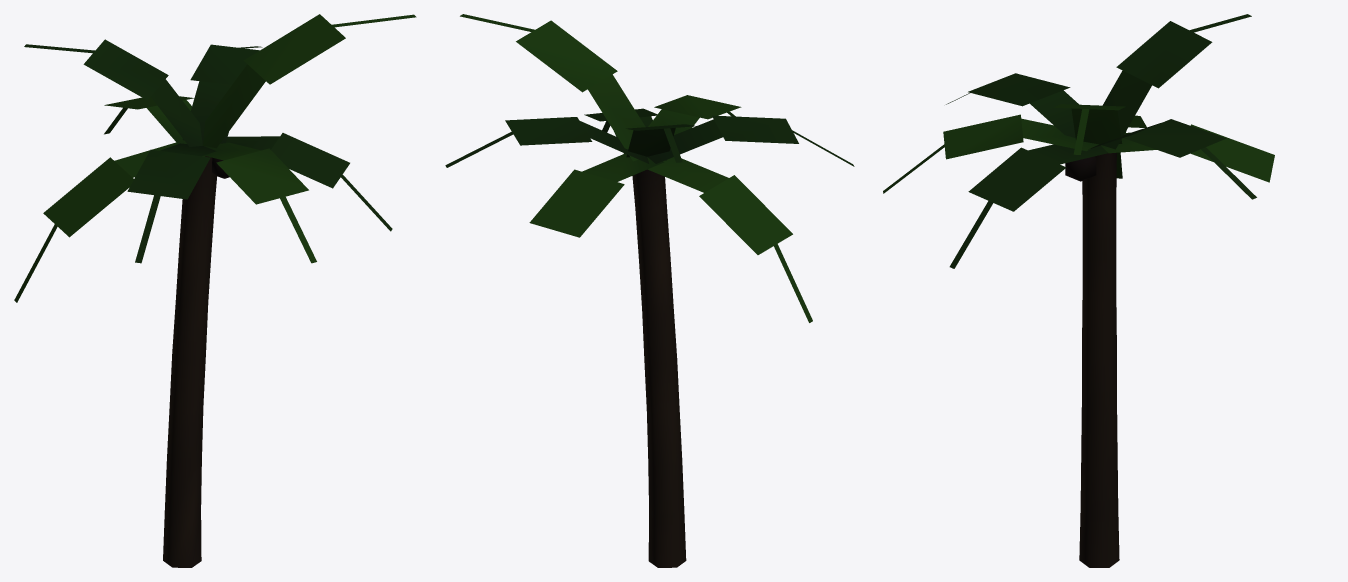
The model's file is fm_palm_lod1.glb.
The picture shows the model from 3 angles, left to right: view 1: azimuth 30°, elevation 25°; view 2: azimuth 150°, elevation 25°; view 3: azimuth 270°, elevation 25°; orthographic projection. The views are drawn at different scales.
Visible parts, largest first — view 1: fm_palm_lod1; view 2: fm_palm_lod1; view 3: fm_palm_lod1.
Boxes of the visible parts, x1,y1,x2,y2 form: fm_palm_lod1: (14,14,416,567); fm_palm_lod1: (445,14,854,567); fm_palm_lod1: (883,14,1274,567).
Bounding box in the file's own units: 7.28 × 9.23 × 7.19.
